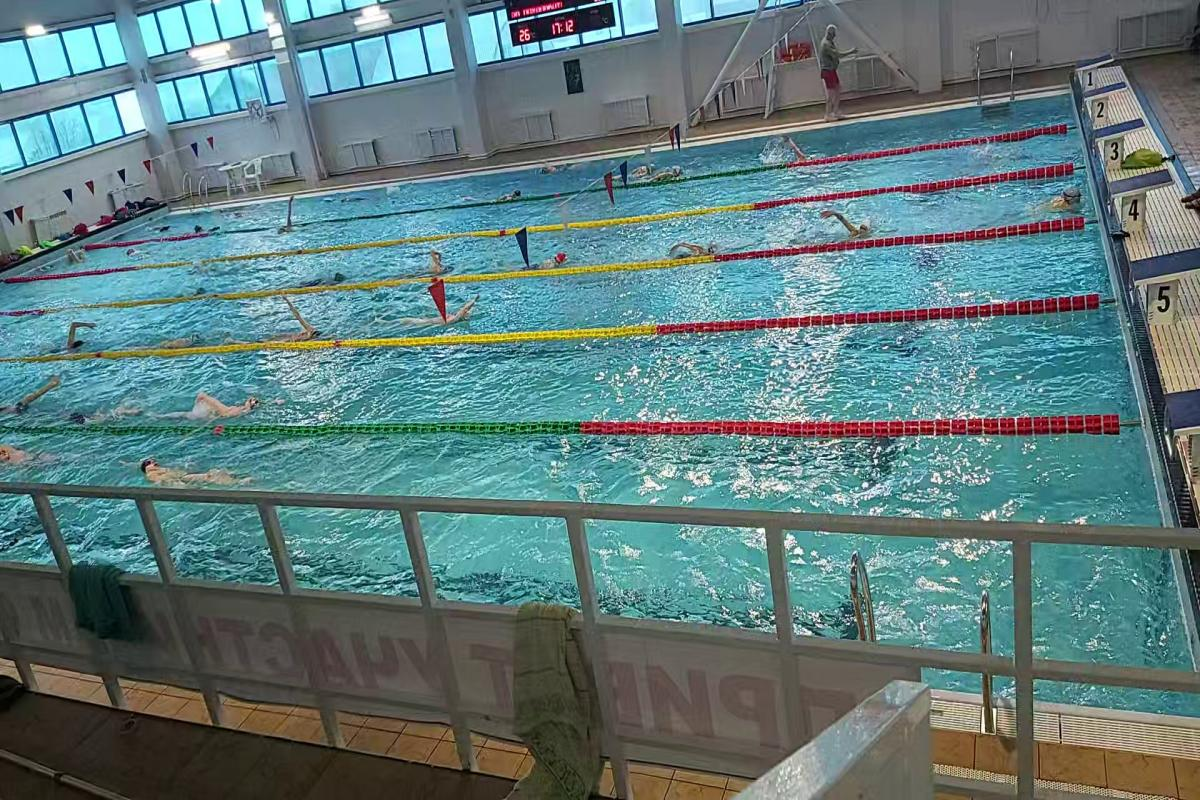swimmer: (122, 449, 253, 492), (172, 384, 276, 420), (366, 299, 484, 328), (261, 296, 331, 340), (3, 379, 63, 420), (810, 205, 882, 237), (1036, 177, 1090, 217), (66, 402, 145, 425), (3, 438, 58, 468), (57, 314, 106, 347), (416, 244, 465, 275), (664, 235, 720, 257), (527, 245, 572, 270), (156, 329, 209, 349)
